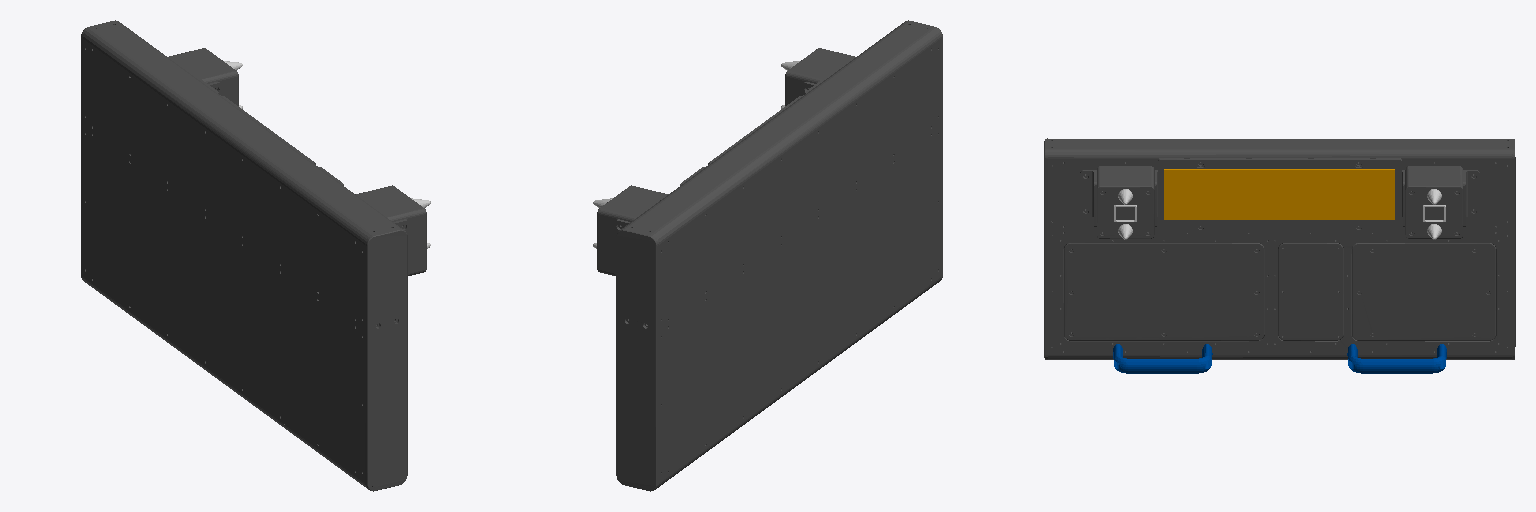
URDF robot description (dock):
<?xml version="1.0"?>

<!-- Copyright (c) 2017, United States Government, as represented by the     -->
<!-- Administrator of the National Aeronautics and Space Administration.     -->
<!--                                                                         -->
<!-- All rights reserved.                                                    -->
<!--                                                                         -->
<!-- The Astrobee platform is licensed under the Apache License, Version 2.0 -->
<!-- (the "License"); you may not use this file except in compliance with    -->
<!-- the License. You may obtain a copy of the License at                    -->
<!--                                                                         -->
<!--     http://www.apache.org/licenses/LICENSE-2.0                          -->
<!--                                                                         -->
<!-- Unless required by applicable law or agreed to in writing, software     -->
<!-- distributed under the License is distributed on an "AS IS" BASIS,       -->
<!-- WITHOUT WARRANTIES OR CONDITIONS OF ANY KIND, either express or         -->
<!-- implied. See the License for the specific language governing            -->
<!-- permissions and limitations under the License.                          -->

<robot name="dock" xmlns:xacro="http://www.ros.org/wiki/xacro">
  <link name="body">
    <inertial>
      <mass value="20"/>
      <origin xyz="0 0 0"/>
      <inertia ixx="1" ixy="0" ixz="0" iyy="1" iyz="0" izz="1"/>
    </inertial>
    <visual name="dock_body_visual">
      <origin xyz="0 0 0" rpy="0 0 0" />
      <geometry>
        <mesh filename="package://astrobee_dock/meshes/dock_base.dae"/>
      </geometry>
    </visual>
    <visual name="dock_pins_visual">
      <origin xyz="0 0 0" rpy="0 0 0" />
      <geometry>
        <mesh filename="package://astrobee_dock/meshes/dock_pins.dae"/>
      </geometry>
    </visual>
    <visual name="dock_target_visual">
      <origin xyz="0 0 0" rpy="0 0 0" />
      <geometry>
        <mesh filename="package://astrobee_dock/meshes/dock_target.dae"/>
      </geometry>
    </visual>
    <visual name="dock_handles_visual">
      <origin xyz="0 0 0" rpy="0 0 0" />
      <geometry>
        <mesh filename="package://astrobee_dock/meshes/dock_handles.dae"/>
      </geometry>
    </visual>
    <collision name="dock_body_collision">
      <origin xyz="0 0 0" rpy="0 0 0" />
      <geometry>
        <mesh filename="package://astrobee_dock/meshes/dock_base.dae"/>
      </geometry>
      <gazebo>
        <surface>
          <contact>
            <collide_bitmask>0x02</collide_bitmask>
          </contact>
        </surface>
      </gazebo>
    </collision>
  </link>
  <gazebo>
    <static>true</static>
    <plugin name="dock_ros" filename="libgazebo_model_plugin_dock.so"/>
  </gazebo>
</robot>

--- Facts derived from the render (not from the file) ---
3 views of the same robot in one strip: view 1: azimuth 30°, elevation 25°; view 2: azimuth 150°, elevation 25°; view 3: azimuth 270°, elevation 25° (orthographic).
Model dock with 1 links and 0 joints (none), rooted at body, posed all joints at 0.
Links seen in each view (by area): view 1: body; view 2: body; view 3: body.
Boxes of the visible links, x1=… form: body: x1=81, y1=20, x2=430, y2=491; body: x1=593, y1=20, x2=942, y2=491; body: x1=1044, y1=138, x2=1515, y2=373.
Bounding box of the posed robot: 0.1757 × 0.7747 × 0.381 m (x, y, z).
Meshes: 4 distinct files referenced, 4 mesh visuals loaded (4 Collada DAE).